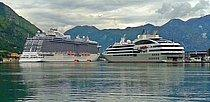Ship: (16, 26, 106, 66), (101, 31, 189, 68)
